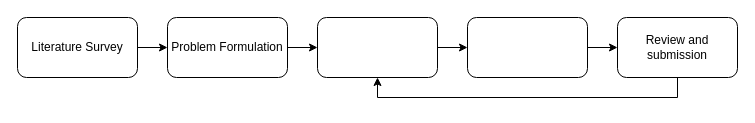
This 755x123 diagram has some shape labels left out. Each missing label, with the centre of its shape:
"Drafting paper" goes at point 527,47.
"Experimentation" goes at point 377,47.
